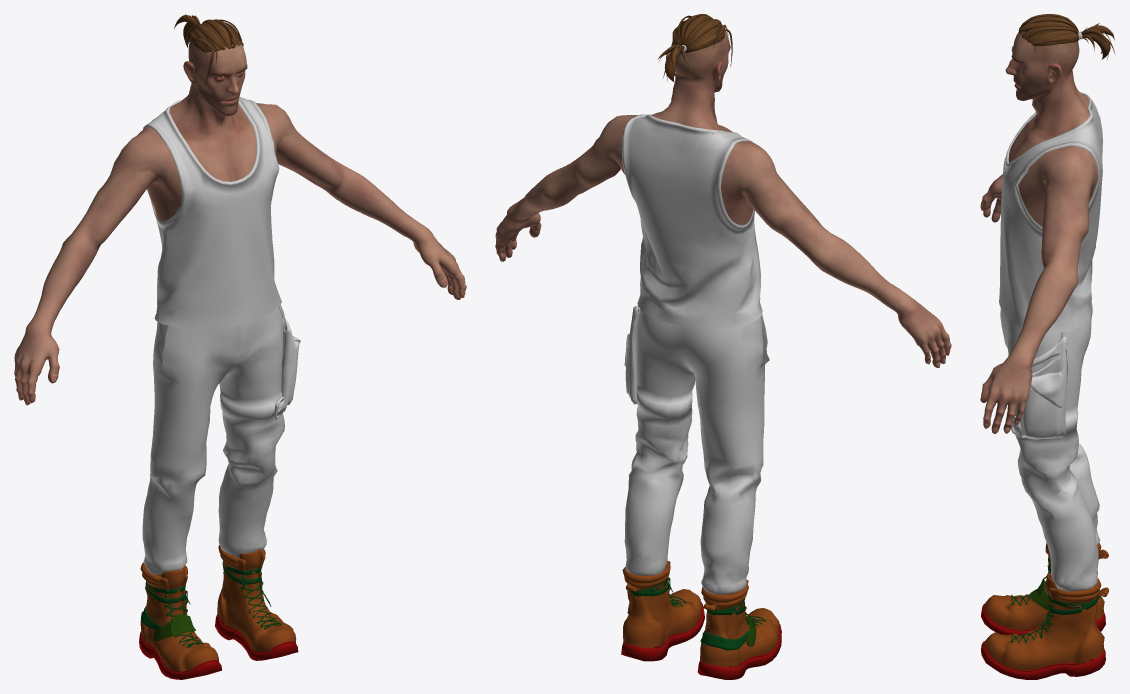
The model's file is PlayerModel.fbx.
The picture shows the model from 3 angles, left to right: view 1: azimuth 30°, elevation 25°; view 2: azimuth 150°, elevation 25°; view 3: azimuth 270°, elevation 25°; orthographic projection.
Parts seen in each view (by area): view 1: Trouser_low; view 2: Trouser_low; view 3: Trouser_low.
Part boxes in pixels (x1,y1,x2,y2): Trouser_low: (14,14,466,679); Trouser_low: (495,14,951,679); Trouser_low: (980,14,1115,679).
Size of the model in its own units: 142 by 195 by 37.63.
